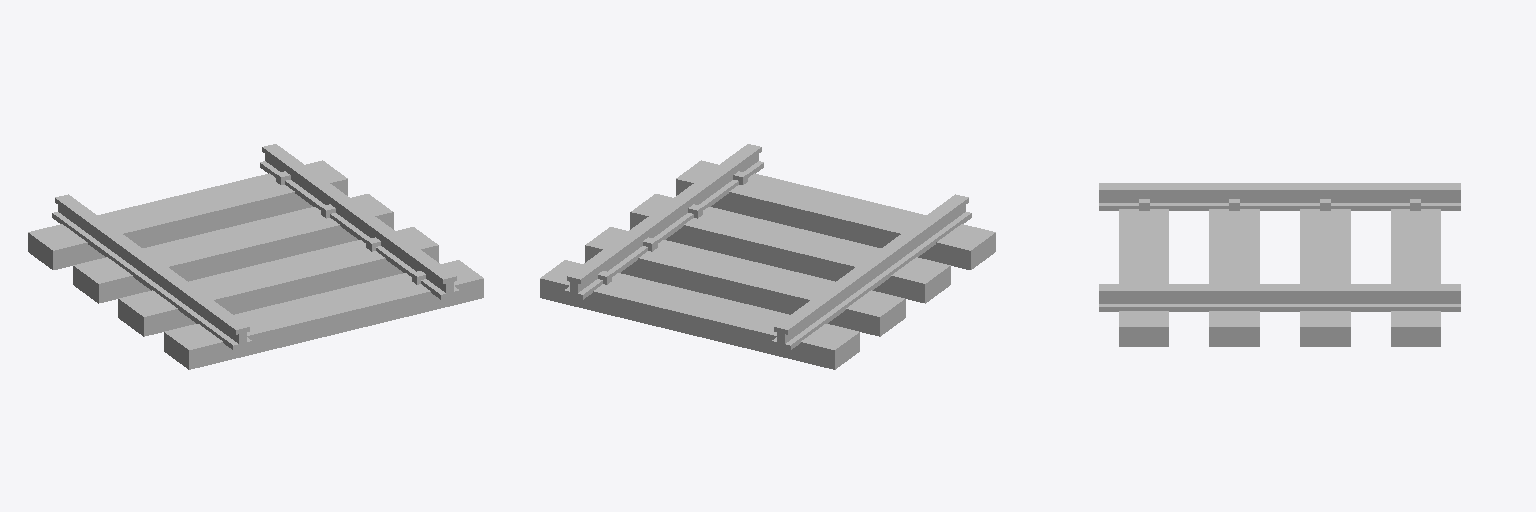
File: track_normal.obj
3 renders of one model, left to right at view 1: azimuth 30°, elevation 25°; view 2: azimuth 150°, elevation 25°; view 3: azimuth 270°, elevation 25°, orthographic.
Parts seen in each view (by area): view 1: Track_normal; view 2: Track_normal; view 3: Track_normal.
Boxes of the visible parts, box(x1,y1,x2,y2) form: Track_normal: box(28, 144, 483, 369); Track_normal: box(540, 144, 995, 369); Track_normal: box(1099, 183, 1460, 346).
Bounding box in the file's own units: 0.94 × 0.1158 × 1.